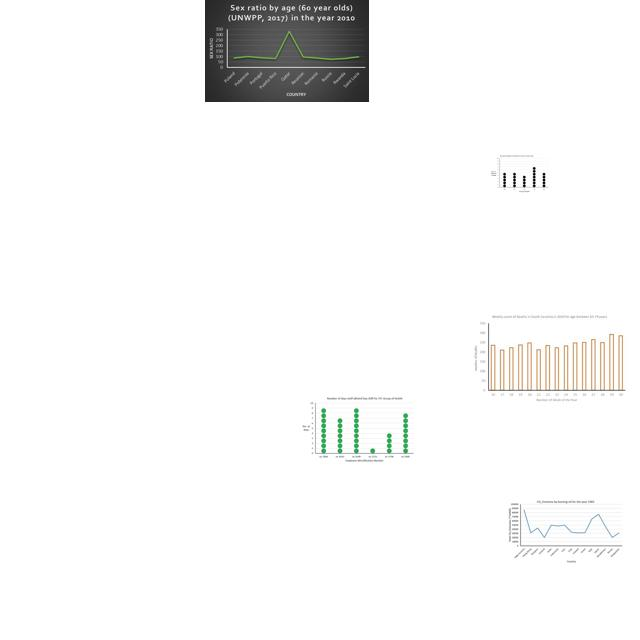Graph: (205, 0, 369, 102), (470, 312, 629, 406), (300, 396, 416, 464), (508, 499, 623, 564), (489, 154, 550, 194)
